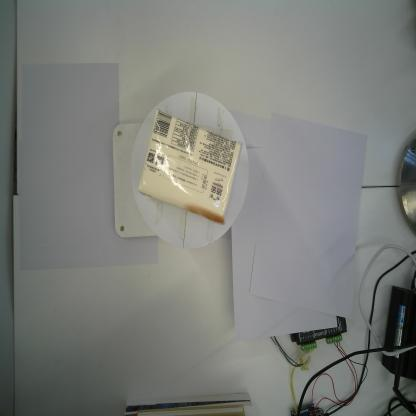Tissue: (137, 108, 244, 225)
